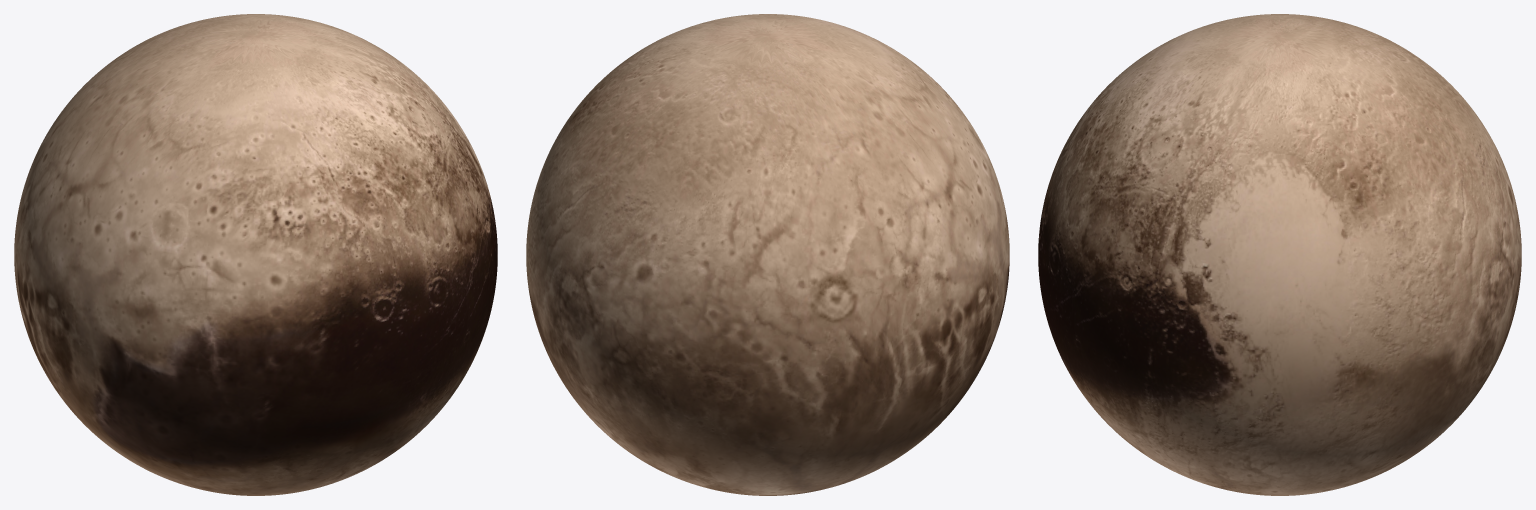
Rendered from pluto.glb.
The picture shows the model from 3 angles, left to right: view 1: azimuth 30°, elevation 25°; view 2: azimuth 150°, elevation 25°; view 3: azimuth 270°, elevation 25°; orthographic projection.
Parts seen in each view (by area): view 1: pluto; view 2: pluto; view 3: pluto.
Boxes of the visible parts, bbox=[...] form: pluto: bbox=[14, 14, 497, 495]; pluto: bbox=[526, 14, 1009, 495]; pluto: bbox=[1038, 14, 1521, 495].
Bounding box in the file's own units: 2 × 2 × 2.
Materials: 1 (1 with a texture image).
